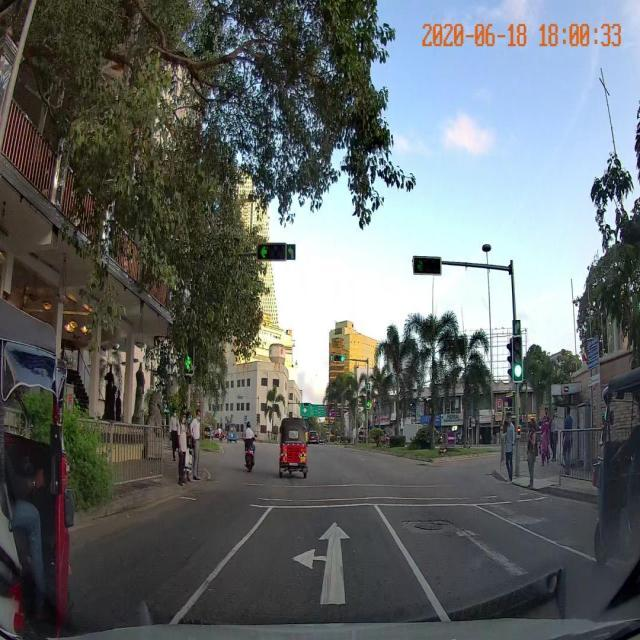Liniya 1: (167, 507, 275, 626), (372, 506, 453, 622), (473, 505, 597, 565)
Liniya 2: (249, 495, 549, 510), (256, 496, 469, 503), (240, 481, 452, 488)
Strelka vpered - vlevo: (292, 519, 352, 607)
